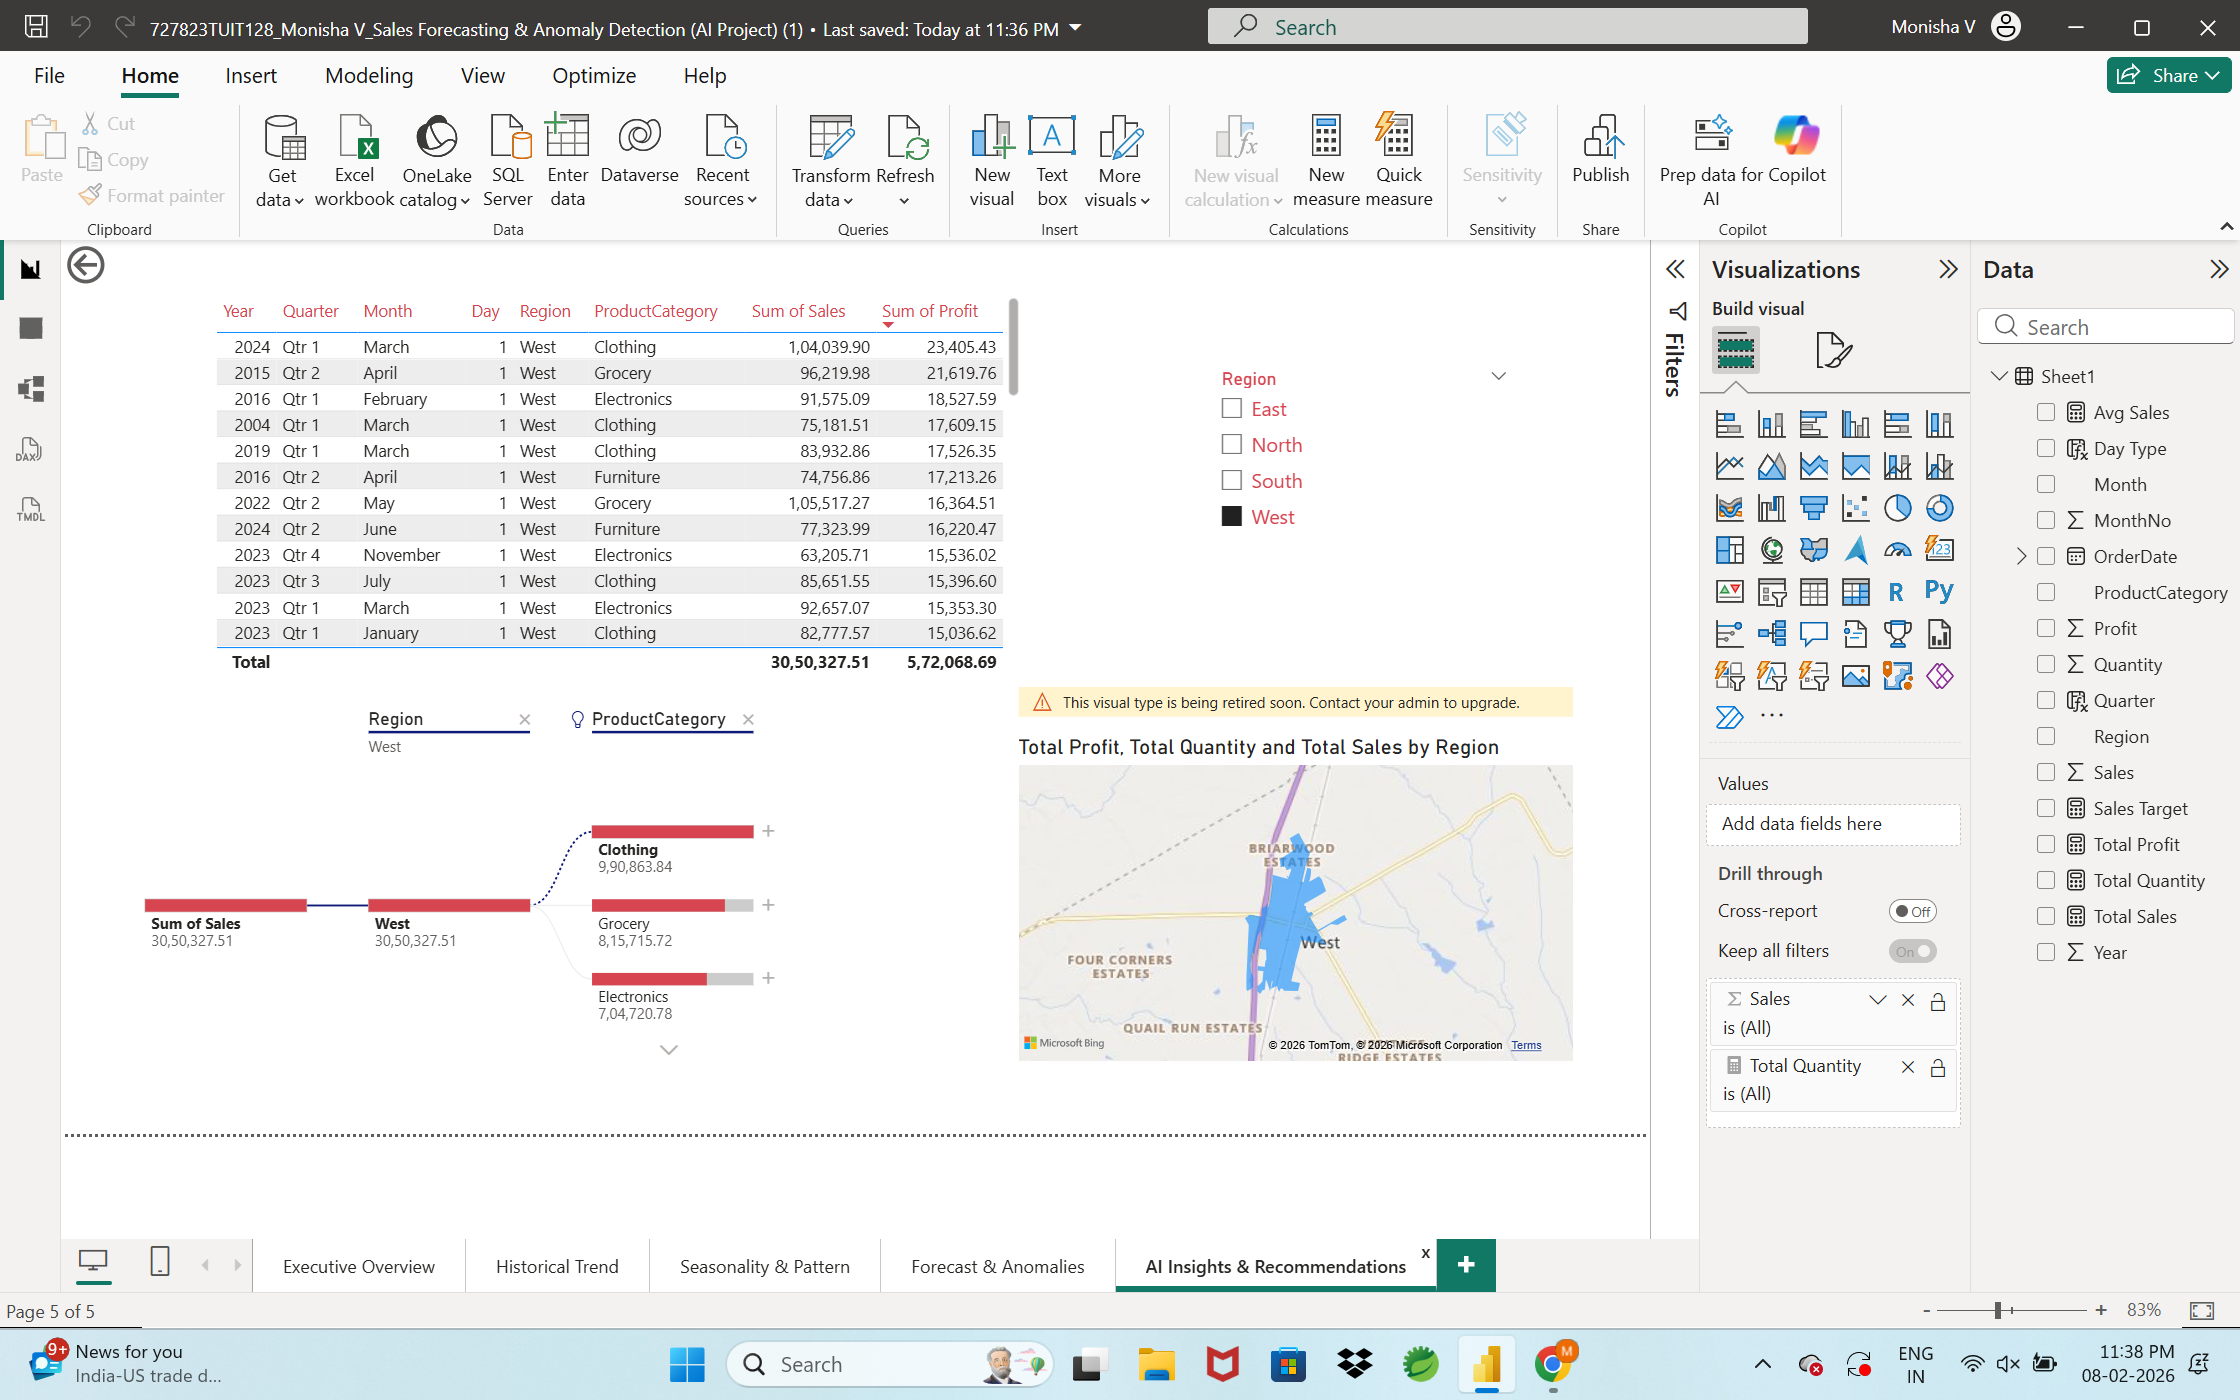

This screenshot's page, from the dashboard's own definition file:
{"tool":"powerbi","page":{"name":"AI Insights & Recommendations","canvas":[1280,720],"ordinal":4},"visuals":[{"type":"slicer","fields":{"Values":["Sheet1.Region"]},"box":[921.4,98.2,255.2,159.7],"z":0},{"type":"tableEx","fields":{"Values":["Sheet1.OrderDate.Variation.Date Hierarchy.Year","Sheet1.OrderDate.Variation.Date Hierarchy.Quarter","Sheet1.OrderDate.Variation.Date Hierarchy.Month","Sheet1.OrderDate.Variation.Date Hierarchy.Day","Sheet1.Region","Sheet1.ProductCategory","Sum(Sheet1.Sales)","Sum(Sheet1.Profit)"]},"box":[119.1,40.6,657.1,312.8],"z":1000},{"type":"filledMap","fields":{"Category":["Sheet1.Region"]},"box":[765.7,359.9,456.8,306.3],"z":2000},{"type":"decompositionTreeVisual","fields":{"ExplainBy":["Sheet1.Region","Sheet1.ProductCategory","Sheet1.Year","Sheet1.Month"],"Analyze":["Sum(Sheet1.Sales)"]},"box":[38,359.9,630.9,306.3],"z":3000},{"type":"actionButton","box":[0,0,100,40],"z":4000}]}

Visuals, with their boxes on the page's 1280x720 design canvas (x1, y1, x2, y2). These are canvas units, not pixel positions in the 2240x1400 screenshot, which may show the page scaled, cropped or inside an application window:
slicer - Sheet1.Region: <bbox>921, 98, 1177, 258</bbox>
tableEx - Sheet1.OrderDate.Variation.Date Hierarchy.Year x Sheet1.OrderDate.Variation.Date Hierarchy.Quarter: <bbox>119, 41, 776, 353</bbox>
filledMap - Sheet1.Region: <bbox>766, 360, 1222, 666</bbox>
decompositionTreeVisual - Sheet1.Region x Sheet1.ProductCategory: <bbox>38, 360, 669, 666</bbox>
actionButton: <bbox>0, 0, 100, 40</bbox>
